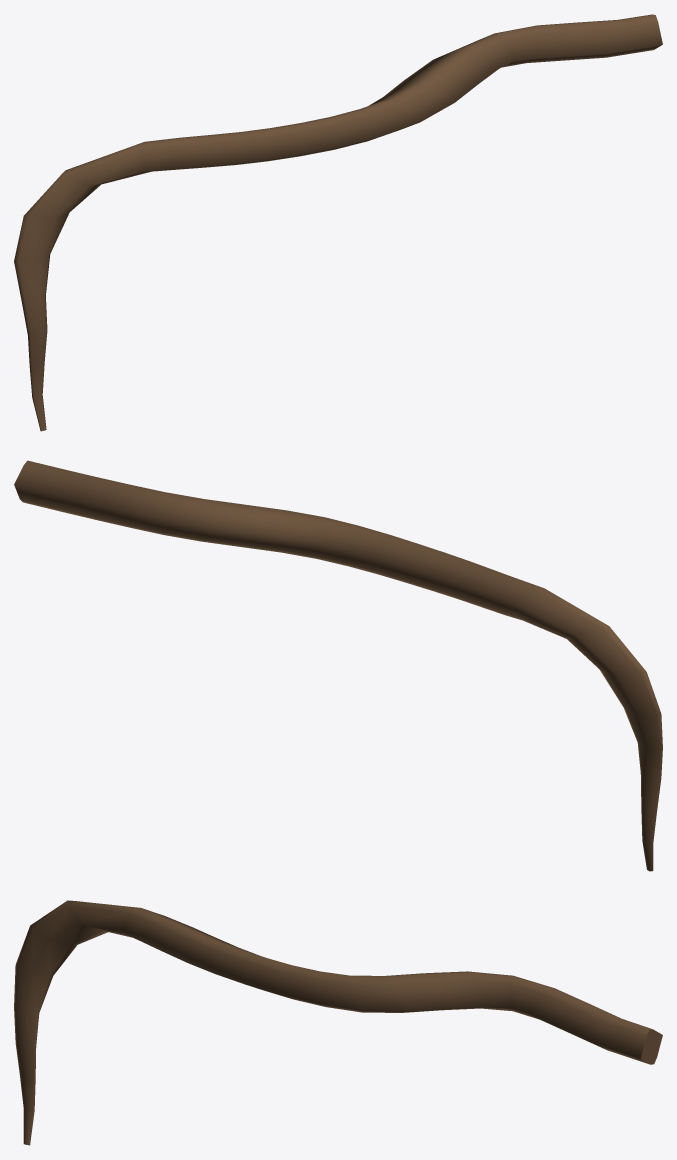
The model's file is SM_Skyisland_Root_Var3.fbx.
The picture shows the model from 3 angles, top to bottom: view 1: azimuth 30°, elevation 25°; view 2: azimuth 150°, elevation 25°; view 3: azimuth 330°, elevation 25°; orthographic projection.
Visible parts, largest first — view 1: BezierCurve.065; view 2: BezierCurve.065; view 3: BezierCurve.065.
Part boxes in pixels (x1,y1,x2,y2): BezierCurve.065: [14, 14, 662, 431]; BezierCurve.065: [14, 460, 662, 871]; BezierCurve.065: [14, 900, 662, 1145].
Size of the model in its own units: 686 by 281 by 91.27.
